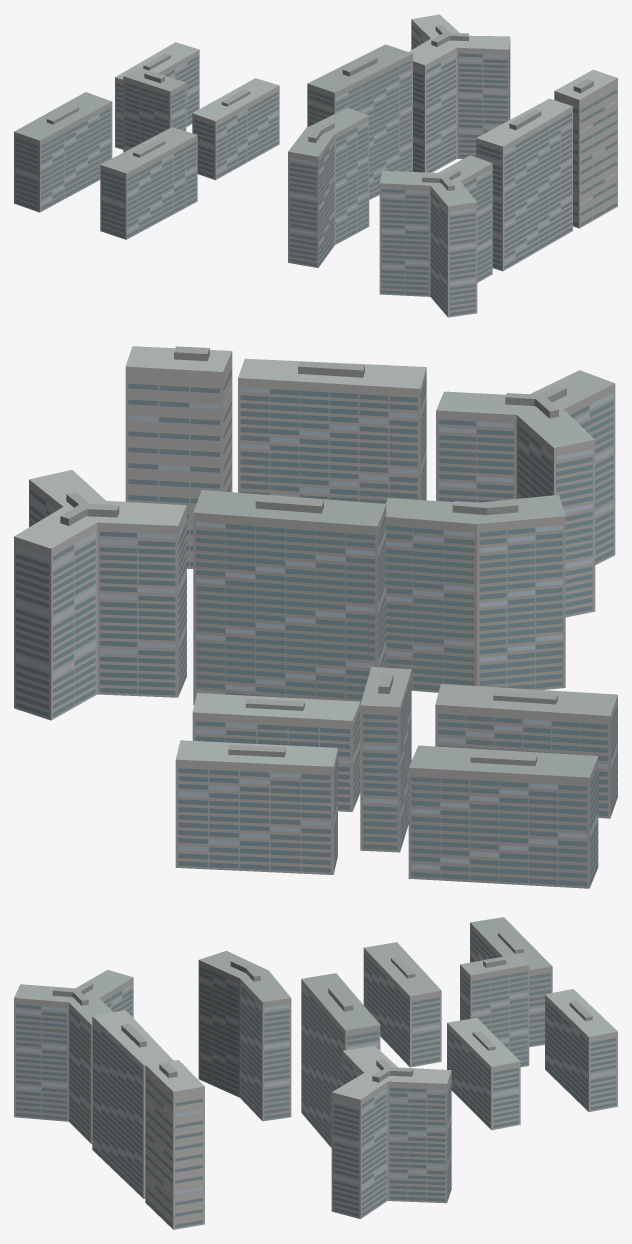
The model's file is apt-a15807315.glb.
The picture shows the model from 3 angles, top to bottom: view 1: azimuth 30°, elevation 25°; view 2: azimuth 150°, elevation 25°; view 3: azimuth 270°, elevation 25°; orthographic projection. The views are drawn at different scales.
Visible parts, largest first — view 1: apt-a15807315; view 2: apt-a15807315; view 3: apt-a15807315.
Part boxes in pixels (box(x1,y1,x2,y2)): apt-a15807315: box(14, 14, 617, 317); apt-a15807315: box(14, 346, 617, 888); apt-a15807315: box(14, 917, 617, 1229).
Size of the model in its own units: 244 by 69 by 264.
